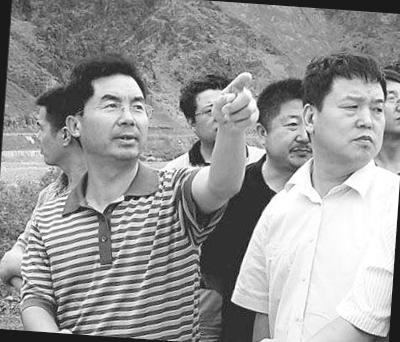no_helmet: (290, 42, 389, 180), (61, 54, 158, 168), (248, 72, 319, 175), (177, 70, 236, 148), (29, 88, 73, 171), (376, 66, 400, 137)
